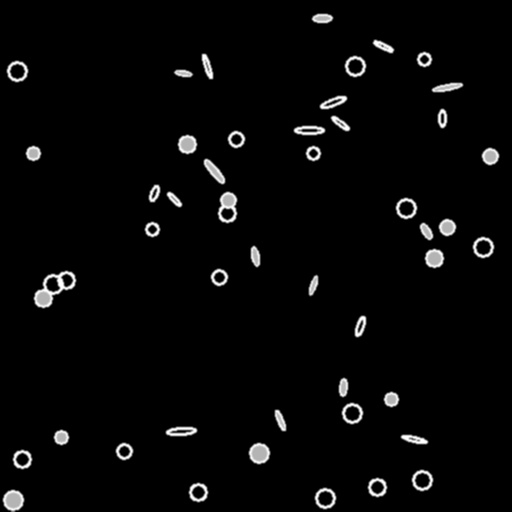pseudomonas: (202, 158, 226, 184), (320, 95, 346, 109), (372, 39, 394, 53), (432, 82, 462, 92), (331, 115, 349, 131), (201, 54, 213, 78), (166, 191, 182, 207), (166, 427, 196, 435), (402, 434, 426, 444), (274, 410, 286, 430), (354, 316, 366, 336), (419, 223, 433, 239), (148, 184, 160, 202), (250, 246, 260, 266), (295, 126, 323, 133), (308, 276, 318, 294), (174, 69, 192, 77), (339, 378, 347, 396), (313, 14, 331, 22), (439, 110, 445, 126)
synechocystis: (4, 491, 22, 509), (44, 275, 62, 293), (8, 62, 26, 80), (397, 199, 415, 217), (316, 489, 334, 507), (346, 57, 364, 75), (474, 238, 492, 256), (250, 444, 268, 462), (413, 471, 431, 489), (343, 404, 361, 422), (369, 479, 385, 495), (426, 250, 442, 266), (190, 484, 206, 500), (179, 136, 195, 152), (58, 272, 74, 288), (219, 205, 235, 221), (35, 290, 51, 306), (14, 451, 30, 467), (117, 444, 131, 458), (483, 149, 497, 163), (229, 132, 243, 146), (212, 270, 226, 284), (440, 220, 454, 234), (221, 193, 235, 207), (146, 223, 158, 235), (27, 147, 39, 159), (307, 147, 319, 159), (385, 393, 397, 405), (55, 431, 67, 443), (418, 53, 430, 65)
